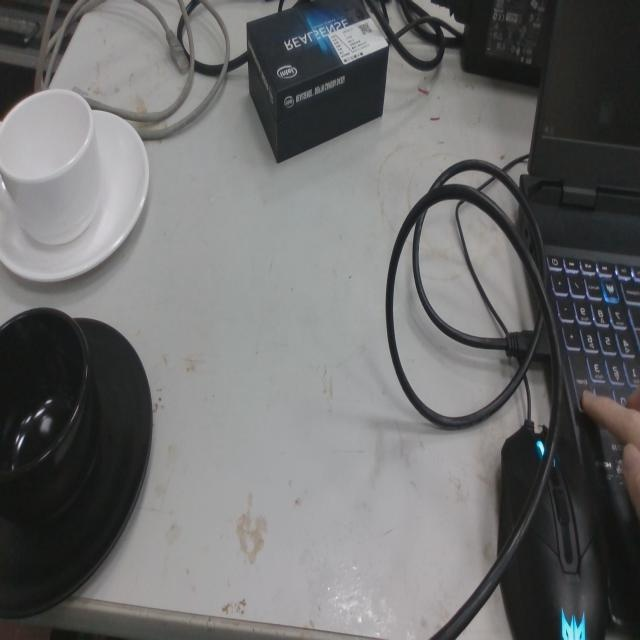black: (0, 301, 156, 625)
white: (0, 83, 152, 289)
